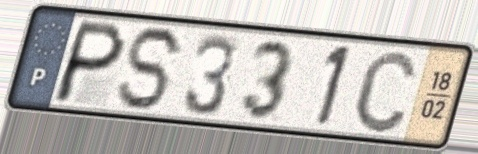1: (312, 43, 356, 130)
3: (239, 38, 299, 122), (184, 30, 237, 119)
C: (350, 46, 420, 136)
P: (48, 18, 130, 107)
S: (113, 23, 190, 113)
